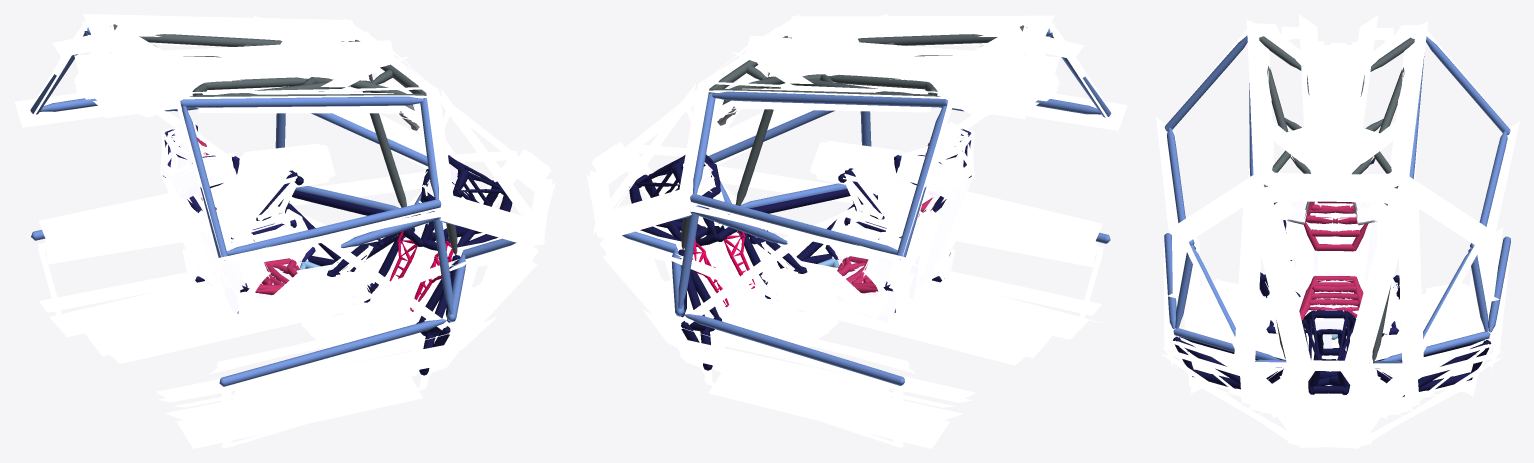
The model's file is spaceship_cockpit.glb.
The picture shows the model from 3 angles, left to right: view 1: azimuth 30°, elevation 25°; view 2: azimuth 150°, elevation 25°; view 3: azimuth 270°, elevation 25°; orthographic projection. The views are drawn at different scales.
Parts seen in each view (by area): view 1: All_Marker, All_Toon, All_Duct_Tape, All_Paper; view 2: All_Marker, All_Toon, All_Duct_Tape, All_Paper; view 3: All_Marker, All_Toon, All_Paper, All_Duct_Tape.
Part boxes in pixels (x1,y1,x2,y2): All_Marker: (14,14,555,448); All_Toon: (30,24,516,386); All_Duct_Tape: (52,32,458,367); All_Paper: (39,24,488,435); All_Marker: (586,14,1127,448); All_Toon: (622,25,1111,385); All_Duct_Tape: (675,32,1089,367); All_Paper: (687,25,1101,434); All_Marker: (1156,14,1519,448); All_Toon: (1164,35,1510,396); All_Paper: (1185,23,1489,448); All_Duct_Tape: (1179,71,1495,334).
Bounding box in the file's own units: 2696 × 1983 × 2218.
